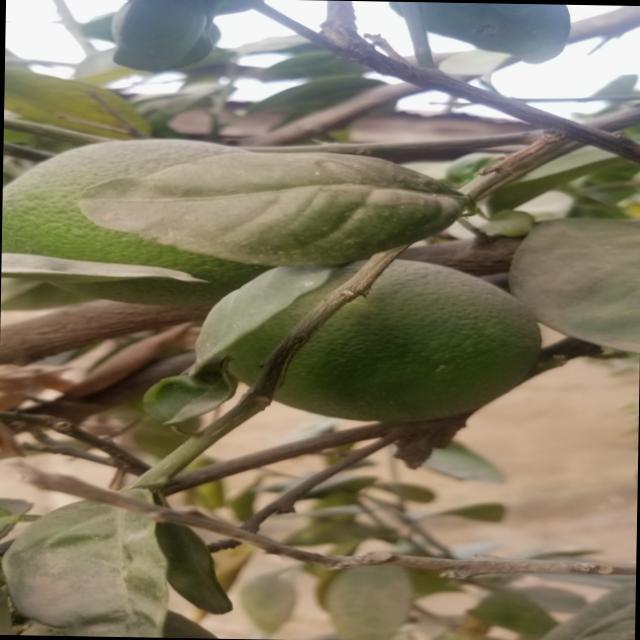Unripe: (214, 258, 536, 428), (17, 136, 242, 302)
